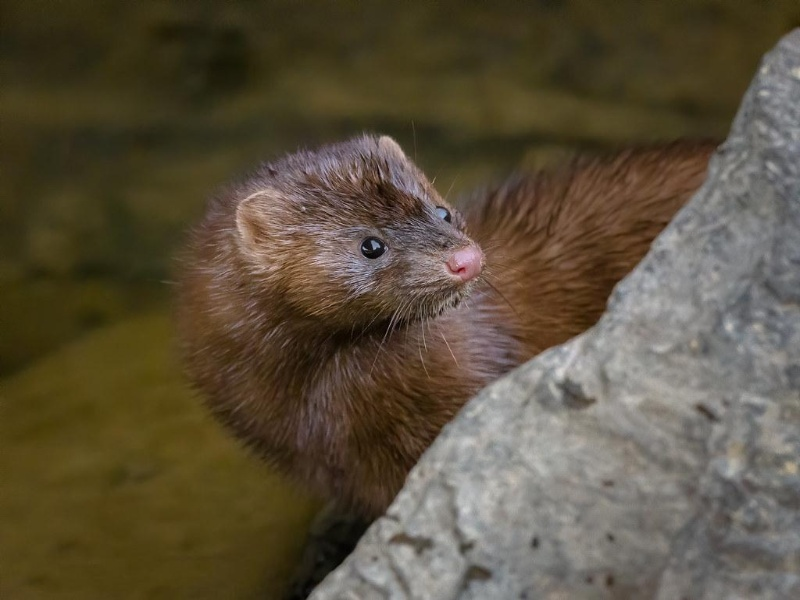minkish: (178, 127, 716, 516)
